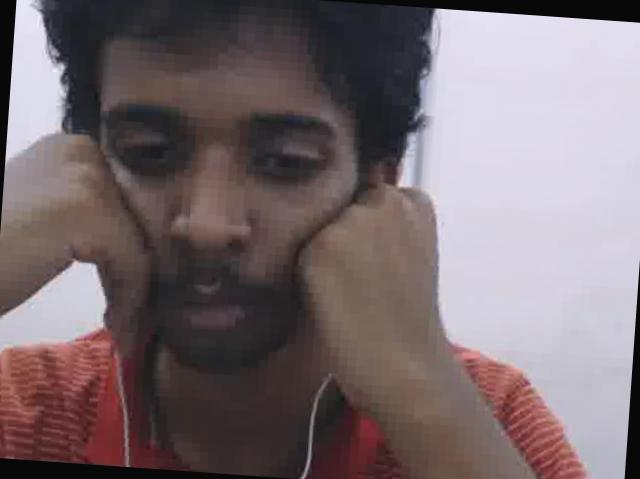bosan: (74, 14, 360, 366)
